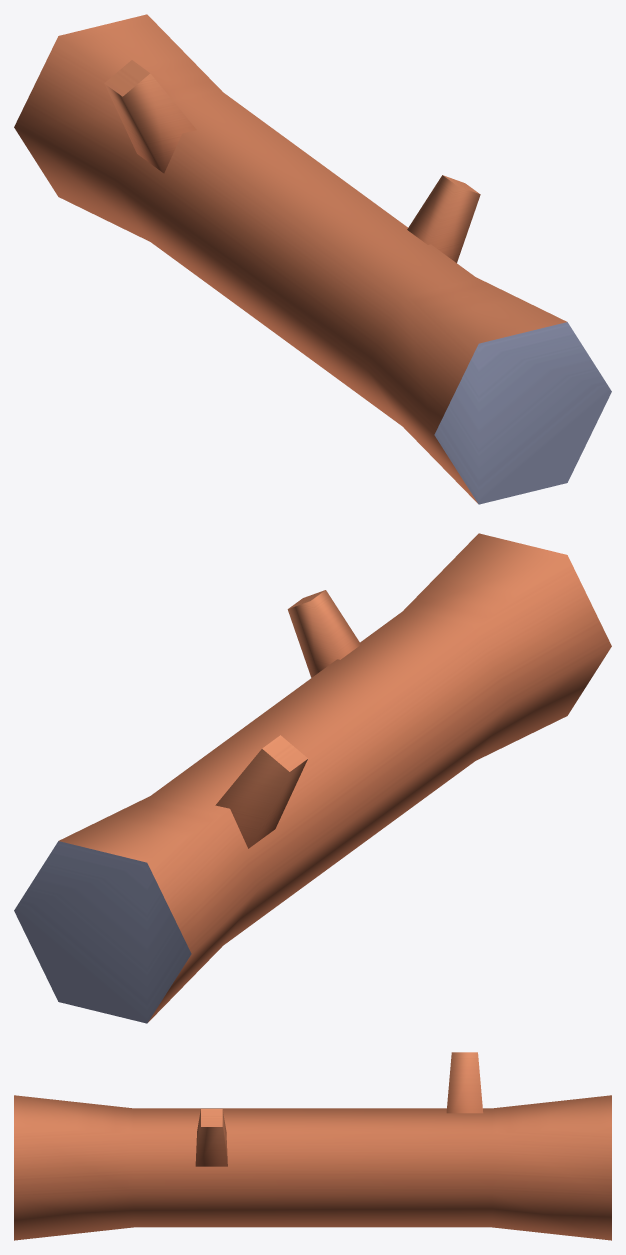
Rendered from tree-log.fbx.
The picture shows the model from 3 angles, top to bottom: view 1: azimuth 30°, elevation 25°; view 2: azimuth 150°, elevation 25°; view 3: azimuth 270°, elevation 25°; orthographic projection. The views are drawn at different scales.
Visible parts, largest first — view 1: tree-log; view 2: tree-log; view 3: tree-log.
Boxes of the visible parts, x1,y1,x2,y2 form: tree-log: [14, 14, 611, 504]; tree-log: [14, 533, 611, 1023]; tree-log: [14, 1052, 611, 1240].
Bounding box in the file's own units: 0.2495 × 1 × 0.2771.
